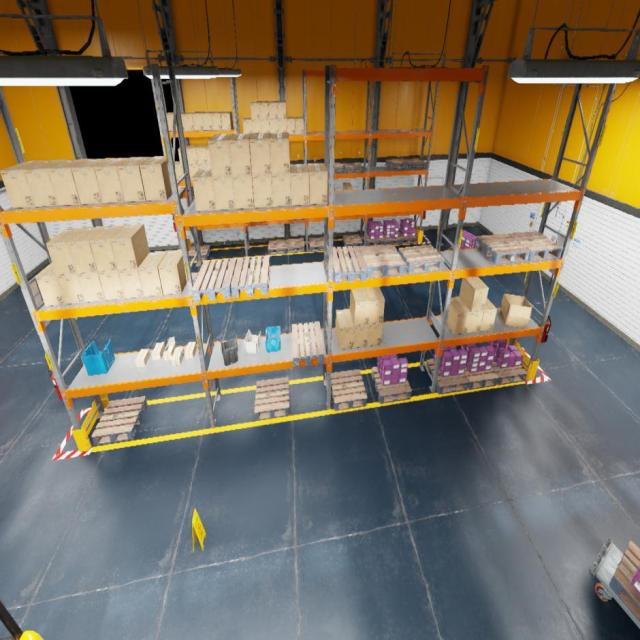box: (0, 160, 47, 208), (24, 159, 69, 207), (48, 158, 90, 206), (46, 227, 86, 275), (68, 226, 106, 274), (110, 224, 149, 270), (72, 159, 110, 205), (94, 158, 131, 204), (89, 225, 125, 272), (117, 157, 152, 202), (140, 156, 172, 201), (138, 251, 168, 296), (158, 250, 187, 295), (35, 263, 65, 306), (499, 294, 532, 328), (459, 276, 489, 312), (192, 167, 216, 212), (208, 134, 233, 176), (229, 134, 252, 176), (446, 297, 471, 335), (249, 133, 271, 174), (459, 297, 484, 333), (308, 163, 328, 205), (270, 132, 290, 174), (77, 272, 105, 302), (57, 274, 85, 304), (290, 163, 309, 206), (98, 270, 125, 300), (212, 176, 235, 210), (118, 268, 144, 298), (232, 175, 254, 209), (350, 288, 370, 325), (336, 309, 354, 350), (252, 174, 273, 208), (366, 286, 384, 324), (272, 173, 291, 207), (480, 298, 497, 331), (368, 322, 383, 347), (354, 325, 369, 348), (162, 337, 175, 361), (135, 349, 150, 367), (171, 346, 184, 366), (182, 112, 195, 132), (187, 145, 200, 164), (220, 112, 233, 130), (184, 342, 197, 359), (152, 343, 165, 360), (176, 112, 187, 132), (196, 145, 208, 163), (178, 146, 190, 164), (202, 112, 213, 131), (193, 112, 204, 131), (211, 112, 222, 130), (294, 117, 304, 135), (259, 102, 269, 119), (189, 164, 199, 180), (251, 102, 260, 119), (243, 117, 252, 134), (180, 165, 190, 180), (286, 117, 294, 135), (277, 102, 286, 118), (268, 102, 277, 118), (260, 119, 270, 133), (251, 120, 261, 133), (175, 162, 182, 180), (166, 113, 173, 131), (269, 119, 278, 132), (278, 119, 286, 132), (343, 182, 353, 190), (206, 145, 210, 163), (198, 164, 208, 168), (329, 183, 334, 190), (208, 164, 211, 168)
forklift: (0, 600, 44, 639)
pallets: (92, 396, 148, 446), (609, 541, 639, 622), (192, 258, 236, 302), (230, 255, 270, 298), (508, 231, 563, 261), (476, 234, 530, 264), (331, 369, 368, 411), (254, 377, 289, 421), (291, 321, 324, 367), (427, 359, 470, 394), (372, 367, 412, 404), (360, 245, 405, 277), (399, 244, 445, 274), (333, 246, 368, 283), (492, 360, 528, 384), (465, 367, 499, 389), (189, 244, 211, 261), (384, 158, 408, 170), (287, 238, 304, 254), (268, 240, 287, 254), (403, 158, 427, 169), (342, 235, 363, 247), (398, 232, 418, 244), (309, 237, 324, 252), (364, 234, 384, 245), (342, 163, 363, 173), (383, 233, 401, 244), (329, 162, 343, 174), (450, 246, 453, 250)
